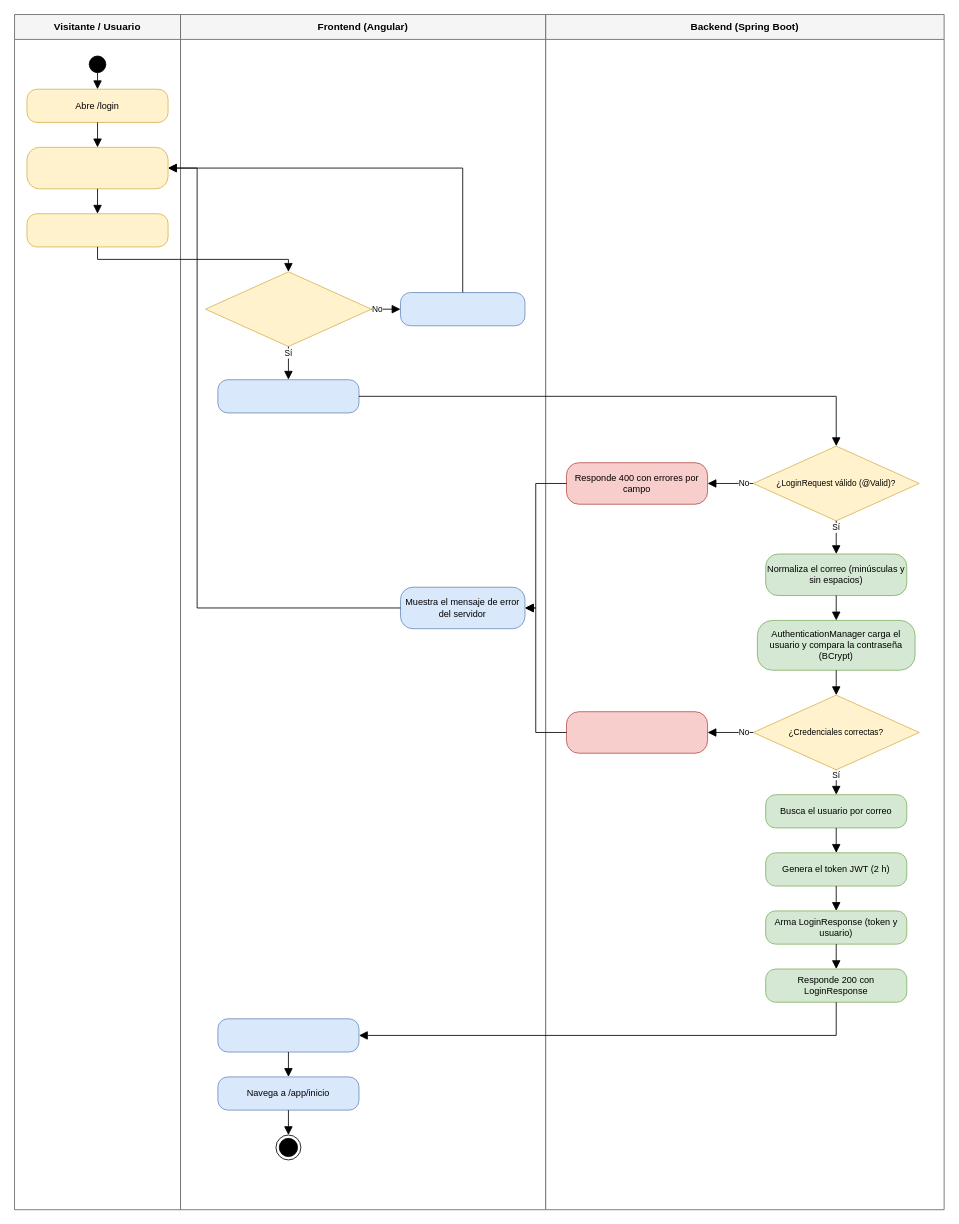
Some shapes in this 959 by 1224 pixel diagram are drawn without their labels. Here are the shapes that lost their labels. From the top down, the centre of each, then its label:
point (97, 167): Ingresa correo y contraseña
point (97, 230): Pulsa «Ingresar»
point (288, 309): ¿Formulario válido en el cliente?
point (462, 309): Muestra errores de campo
point (288, 396): Envía POST /api/auth/login
point (637, 732): Responde 401: Correo o contraseña incorrectos
point (288, 1035): Guarda la sesión (token y usuario)
